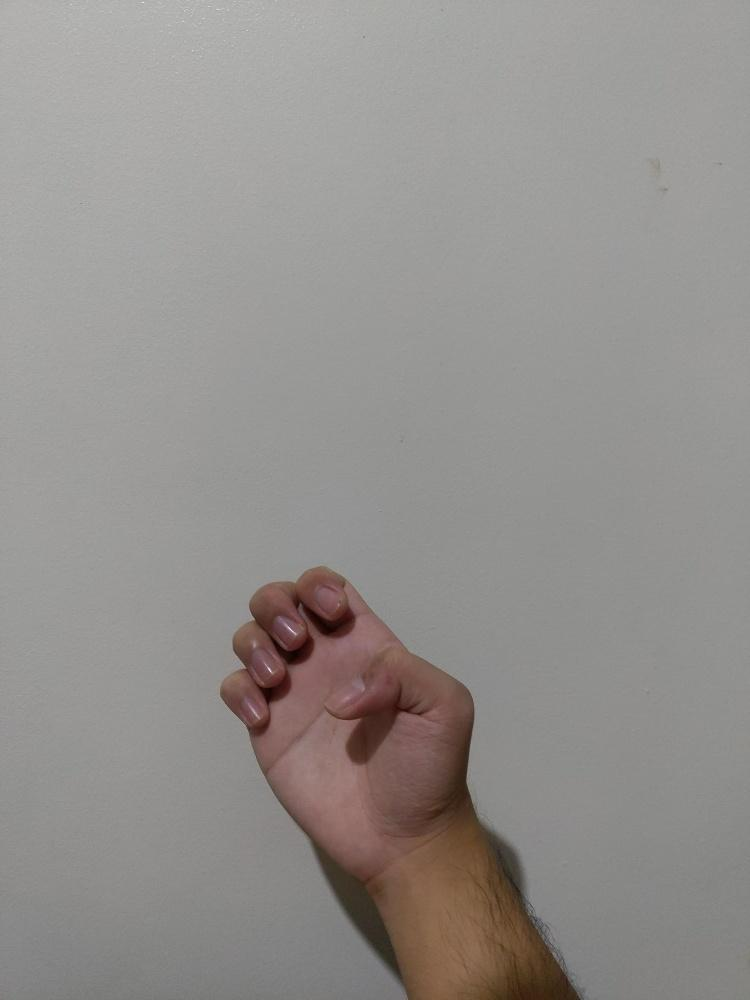e: (219, 562, 475, 879)
